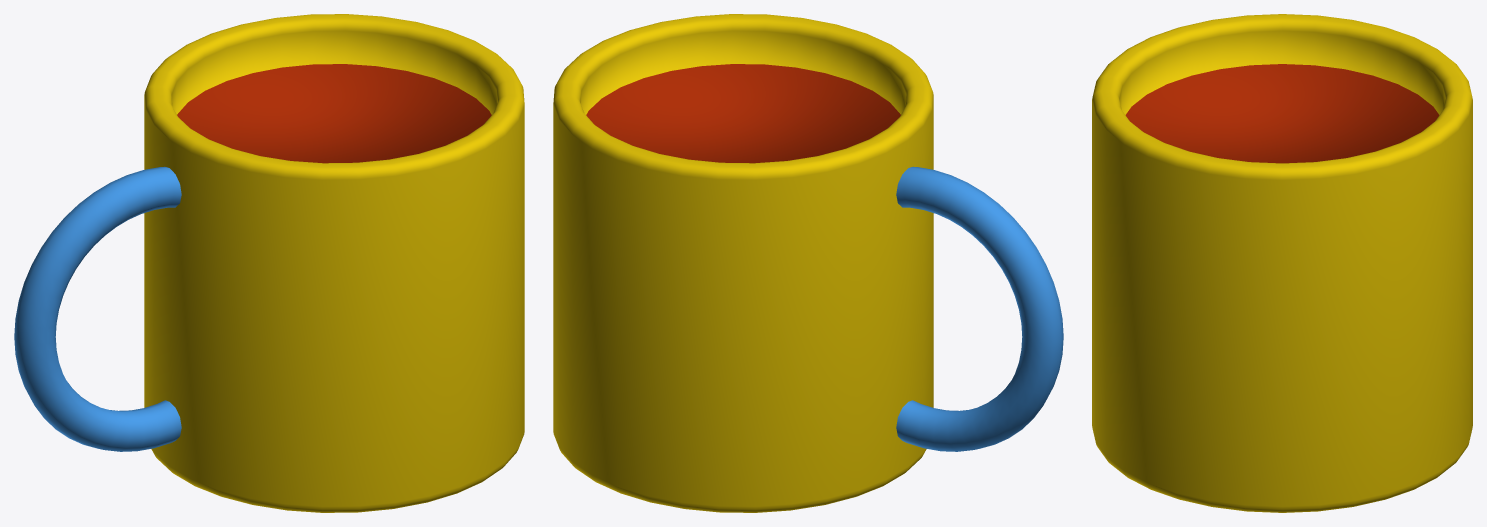
The model's file is Mug.fbx.
3 renders of one model, left to right at view 1: azimuth 30°, elevation 25°; view 2: azimuth 150°, elevation 25°; view 3: azimuth 270°, elevation 25°, orthographic.
Visible parts, largest first — view 1: Mug; view 2: Mug; view 3: Mug.
Boxes of the visible parts, x1,y1,x2,y2 form: Mug: [14, 14, 524, 512]; Mug: [553, 14, 1063, 512]; Mug: [1092, 14, 1472, 512].
Size of the model in its own units: 292 by 200 by 200.
